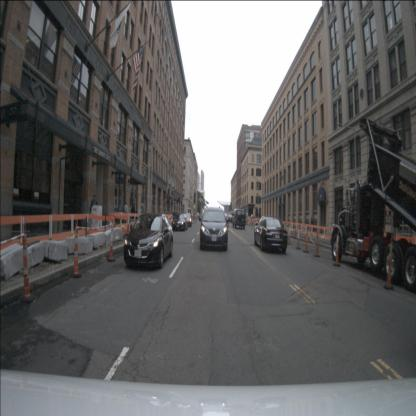human-pedestrian-adult: (90, 194, 96, 228), (131, 203, 136, 224), (124, 201, 128, 224), (310, 216, 313, 233)
movable_object-trafficcone: (20, 223, 35, 303), (71, 218, 82, 278), (383, 238, 394, 291), (106, 216, 116, 262), (333, 229, 341, 267), (313, 227, 320, 258), (303, 226, 309, 254), (295, 225, 301, 251), (125, 213, 131, 236), (286, 224, 292, 246)
vehicle-car: (123, 213, 174, 271), (198, 208, 230, 252), (254, 217, 288, 254), (172, 212, 188, 232), (232, 209, 246, 229), (181, 212, 192, 228)
vehicle-truck: (330, 118, 416, 285)
